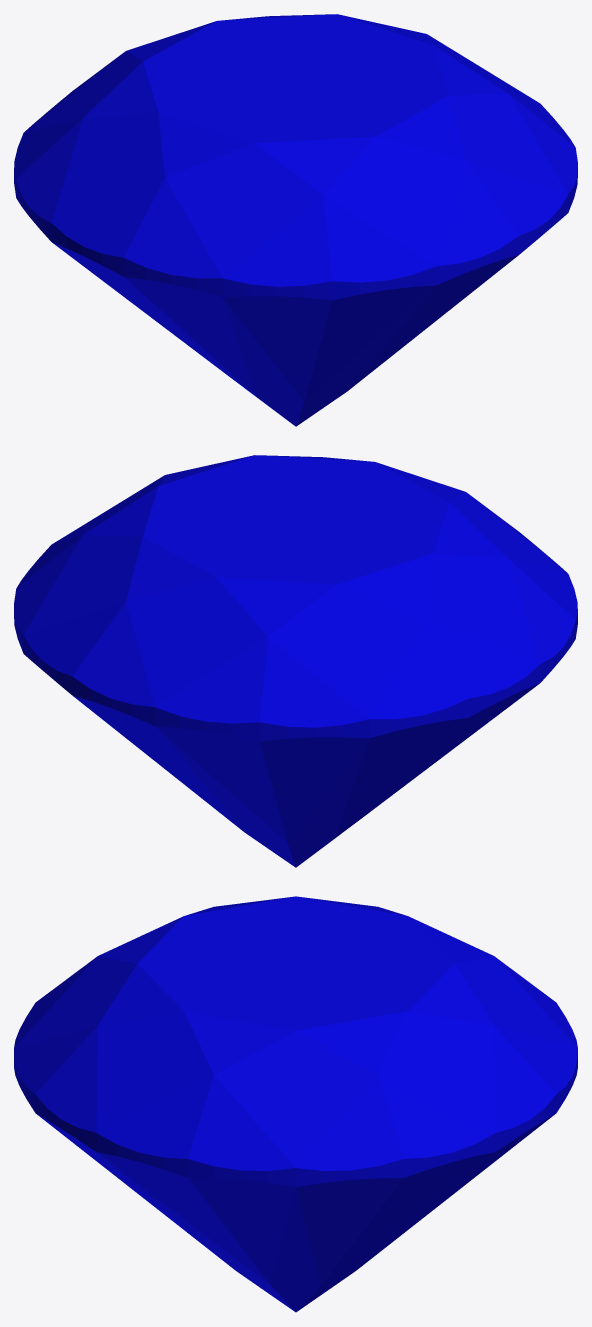
File: Head_Single Halo_Round_1.0ct_Diamond.glb
The picture shows the model from 3 angles, top to bottom: view 1: azimuth 30°, elevation 25°; view 2: azimuth 150°, elevation 25°; view 3: azimuth 270°, elevation 25°; orthographic projection.
Bounding box in the file's own units: 0.00641 × 0.00436 × 0.00638.
